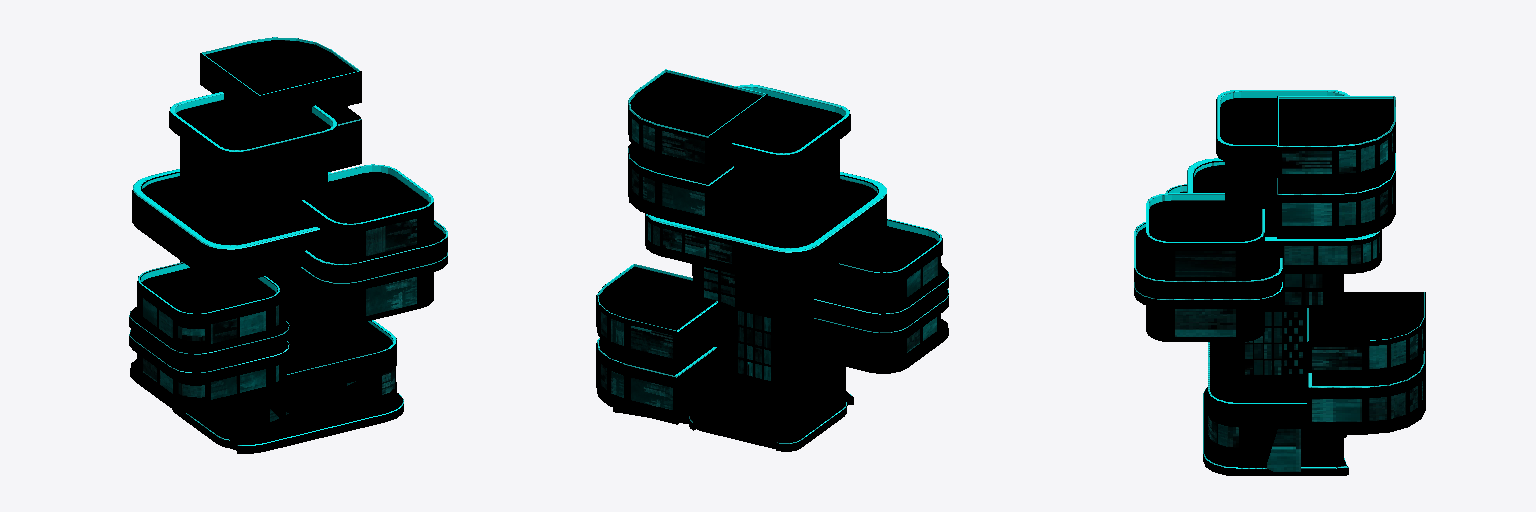
3 renders of one model, left to right at view 1: azimuth 30°, elevation 25°; view 2: azimuth 150°, elevation 25°; view 3: azimuth 270°, elevation 25°, orthographic.
Visible parts, largest first — view 1: Cube_a_Plane.003; view 2: Cube_a_Plane.003; view 3: Cube_a_Plane.003.
Part boxes in pixels (x1,y1,x2,y2): Cube_a_Plane.003: (129, 37, 447, 453); Cube_a_Plane.003: (596, 69, 948, 451); Cube_a_Plane.003: (1134, 90, 1425, 475).
Bounding box in the file's own units: 28.44 × 33.15 × 27.34.
3 materials, 1 textured.